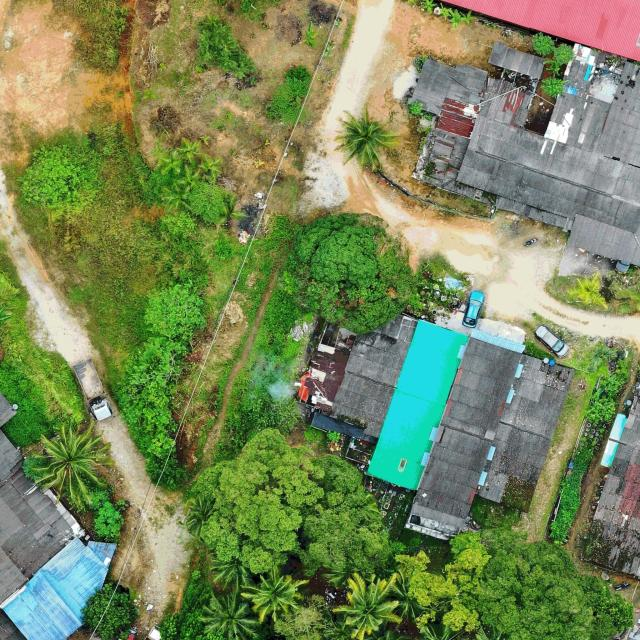Tree: (194, 425, 323, 569), (473, 541, 635, 640), (281, 212, 413, 333), (296, 450, 406, 580), (394, 547, 489, 630), (21, 422, 112, 504), (18, 144, 103, 224), (331, 572, 401, 640), (239, 563, 309, 626), (333, 104, 399, 170), (143, 278, 207, 340), (80, 581, 138, 639), (198, 590, 258, 639), (179, 491, 221, 542), (210, 553, 256, 593), (389, 573, 426, 620), (191, 181, 226, 225), (95, 503, 124, 537), (547, 42, 576, 74), (540, 75, 566, 98), (531, 31, 555, 55), (459, 10, 477, 24), (449, 9, 460, 30), (422, 0, 437, 13)
